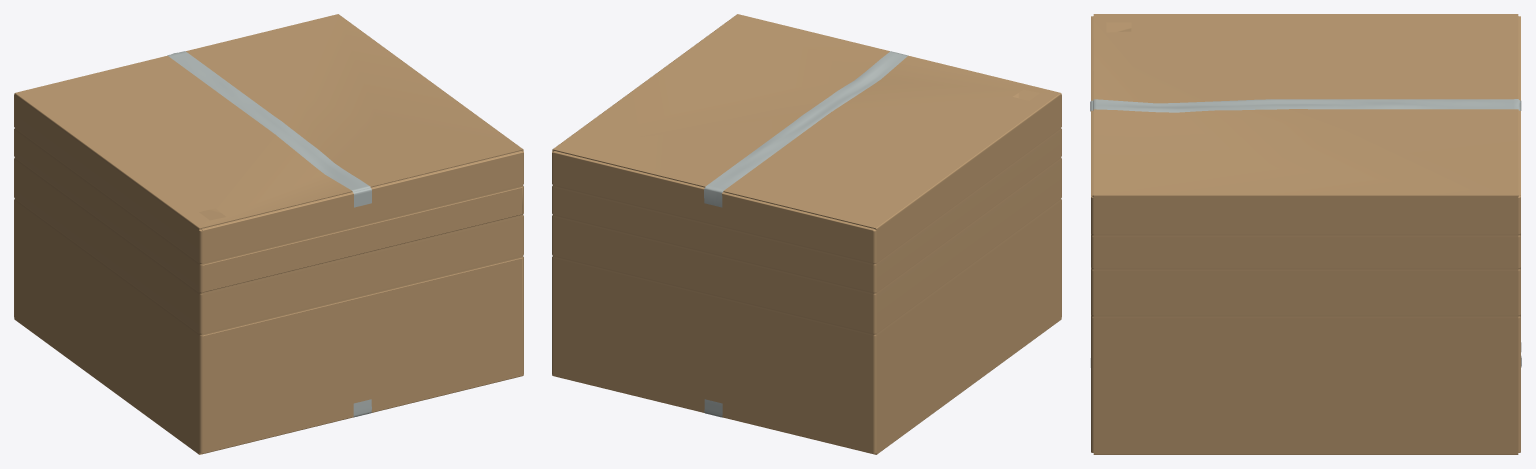
The model's file is box_multiDepth_a11.glb.
3 renders of one model, left to right at view 1: azimuth 30°, elevation 25°; view 2: azimuth 150°, elevation 25°; view 3: azimuth 270°, elevation 25°, orthographic. The views are drawn at different scales.
Bounding box in the file's own units: 0.4566 × 0.3069 × 0.4578.
